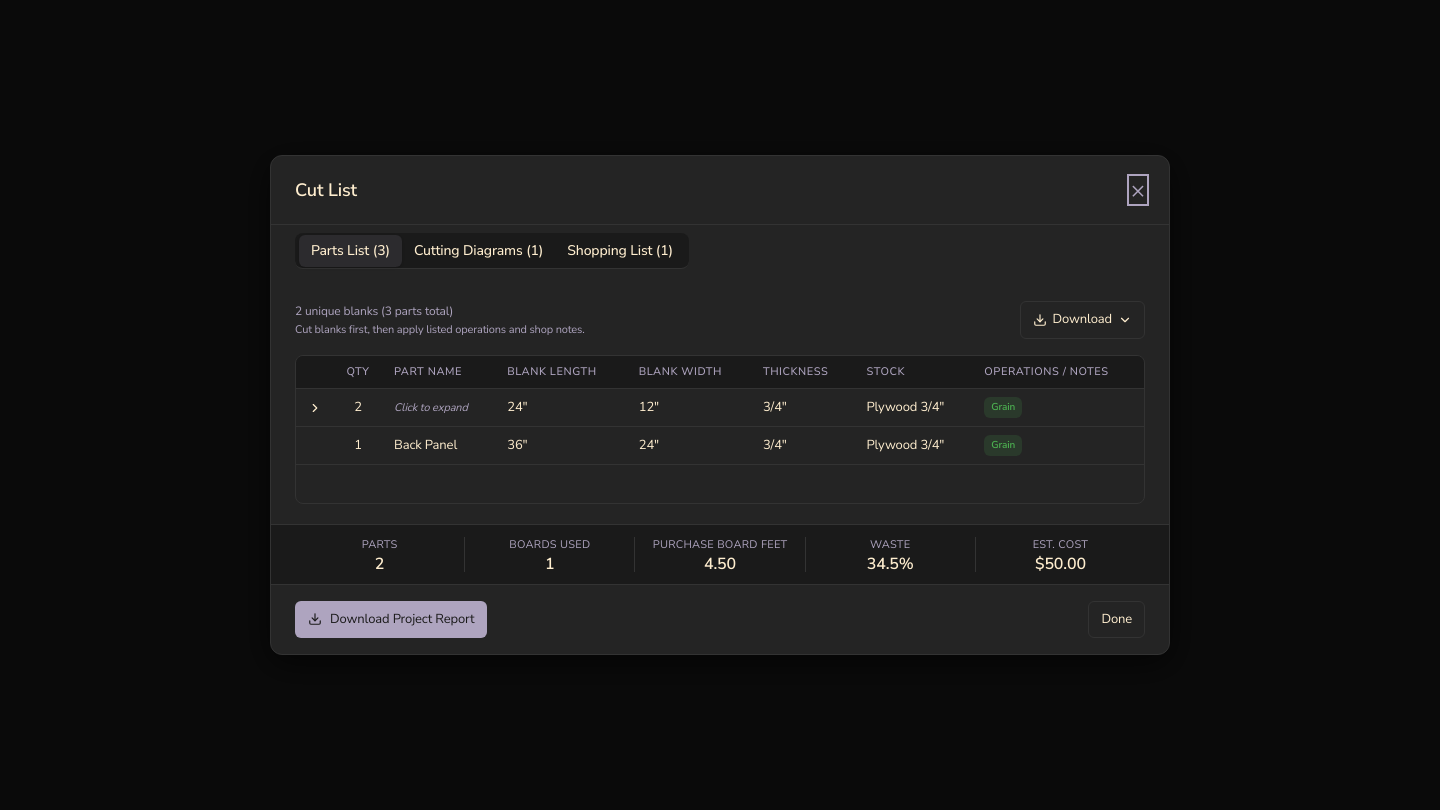
Test case: CutListModal › grouped parts list › collapses group when clicked again
The image size is (1440, 810).
Note: Click to expand
Step 1. Click the text "Click to expand" → (720, 408), box [296, 388, 1144, 426]
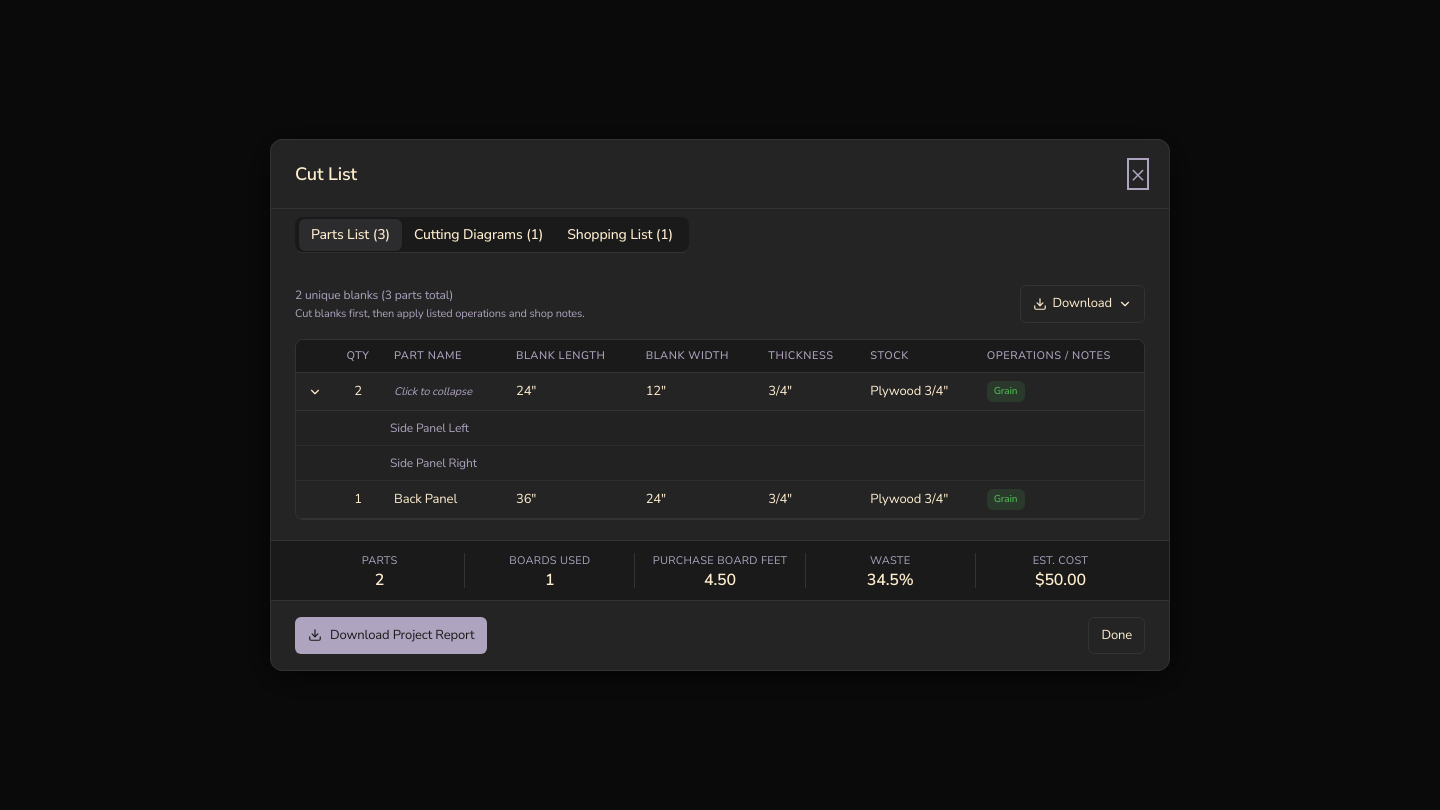
Note: Click to collapse
Step 2. Click the text "Click to expand" → (720, 392), box [296, 372, 1144, 410]
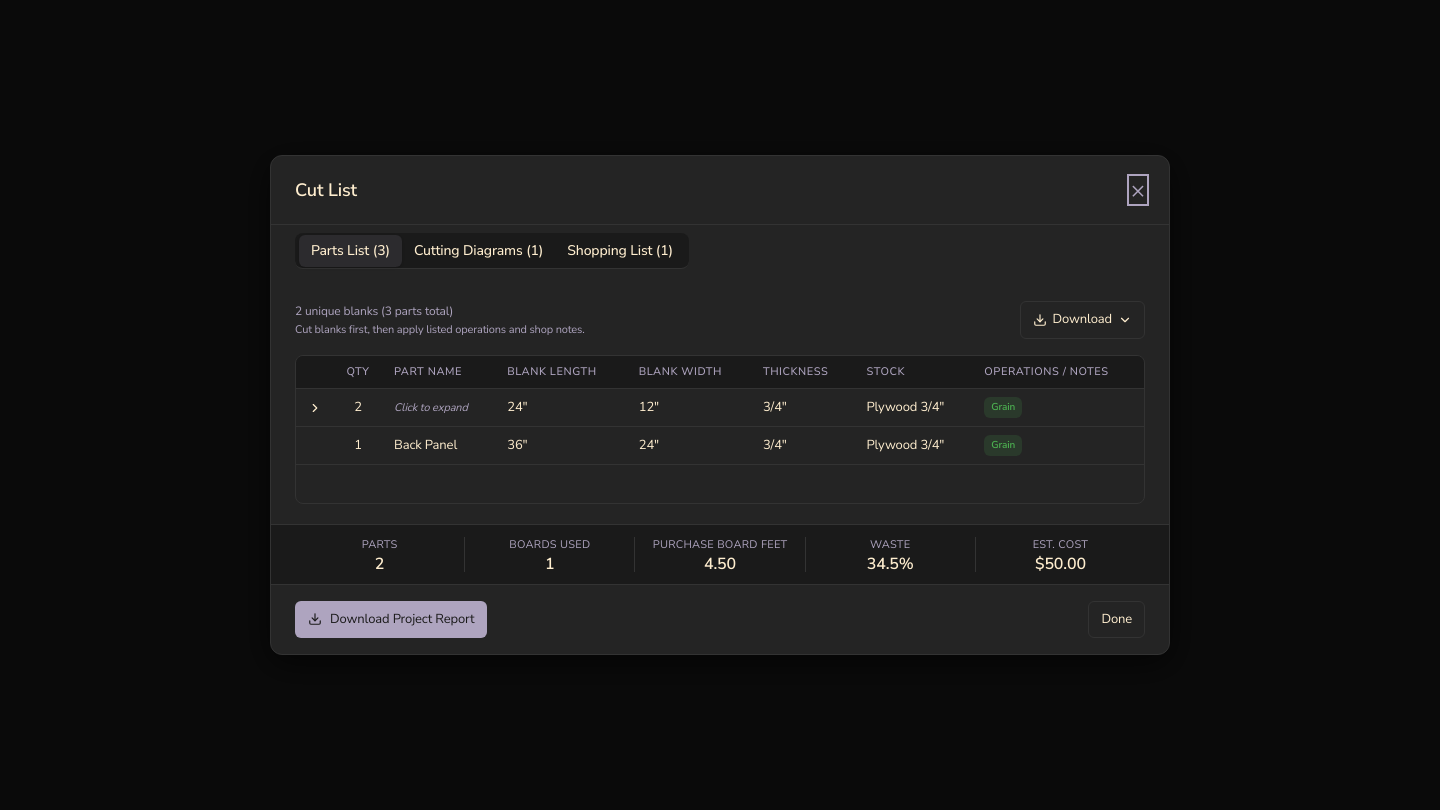
Expected: the text "Click to expand" is shown, [394, 400, 468, 415]
